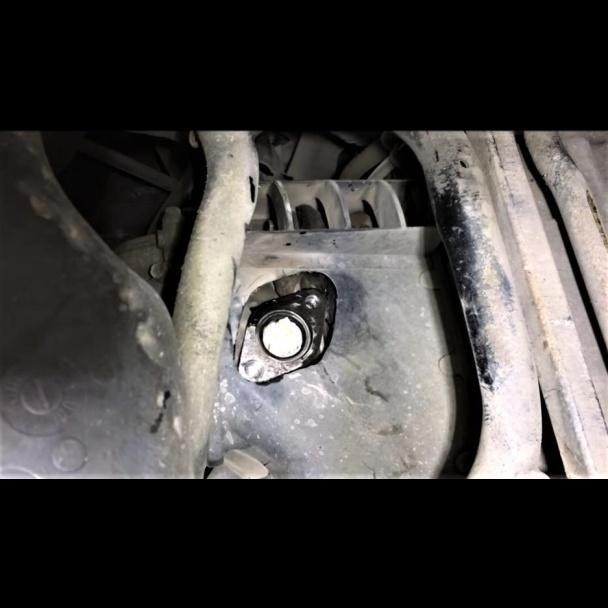hole: (240, 356, 263, 381), (303, 292, 321, 311)
